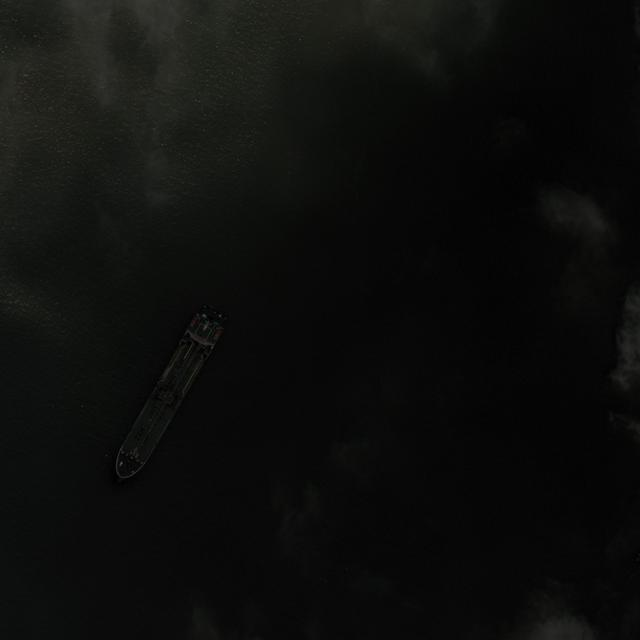Oil Tanker: (103, 300, 233, 491)
